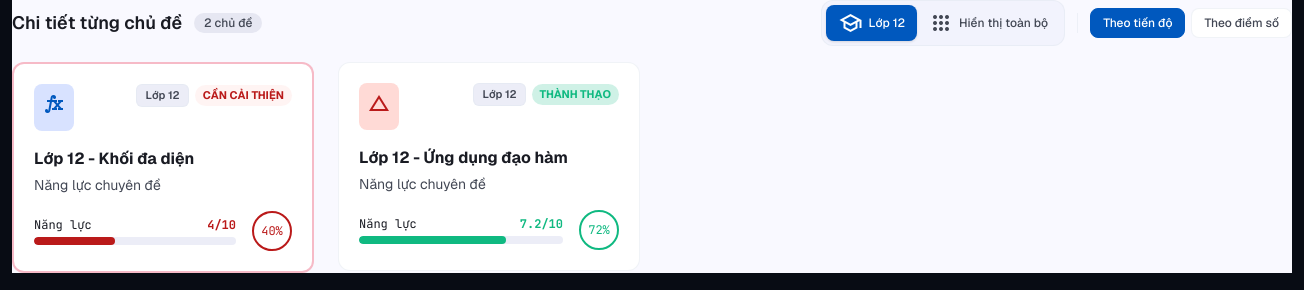
Test: TopicMasteryGrid › toggles between only current grade and all topics
This screenshot has width=1304, height=290.
expect the heading "Lớp 12 - Ứng dụng đạo hàm" is shown: met, box [359,147,568,168]
// Click "Hiển thị toàn bộ"
Click the button "Hiển thị toàn bộ".
click(989, 23)  # box [917,5,1060,41]
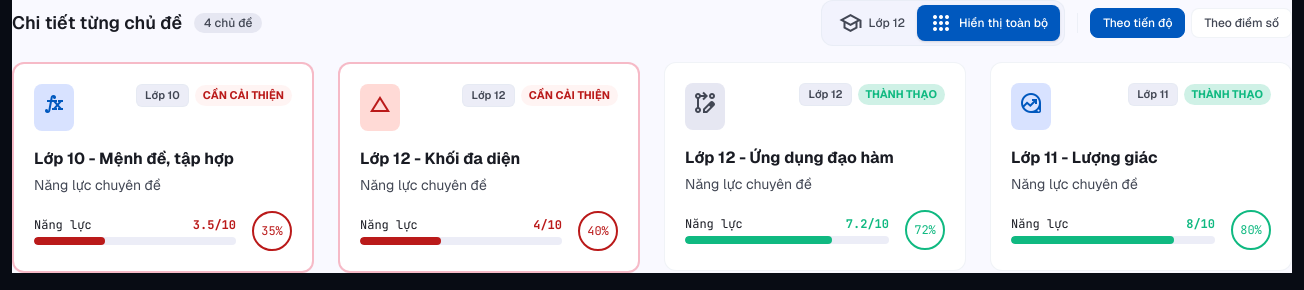
expect the heading "Lớp 10 - Mệnh đề, tập hợp" is shown: met, box [34,148,234,169]
expect the heading "Lớp 11 - Lượng giác" is shown: met, box [1011,147,1158,168]
expect the text "4 chủ đề" is shown: met, box [194,13,262,33]
// Click back to "Lớp 12"
Click the button "Lớp 12".
click(872, 23)  # box [826,5,917,41]
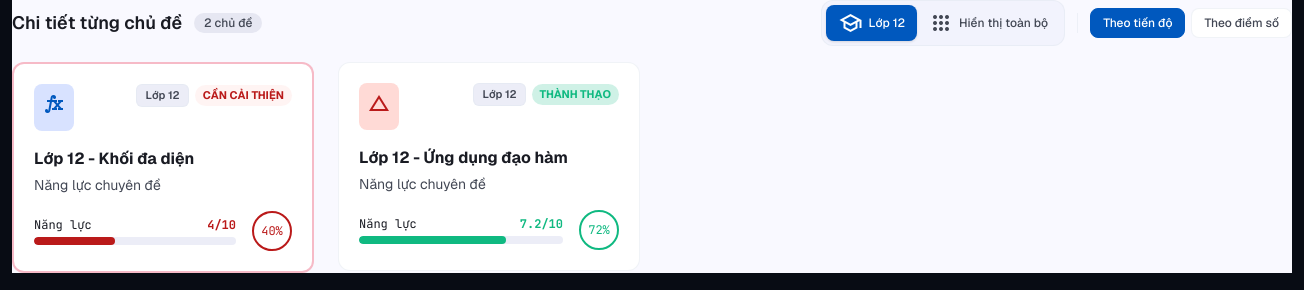
expect the heading "Lớp 12 - Ứng dụng đạo hàm" is shown: met, box [359,147,568,168]
expect the link "Lớp 10 - Mệnh đề, tập hợp" is gone: met
expect the text "2 chủ đề" is shown: met, box [194,13,262,33]
